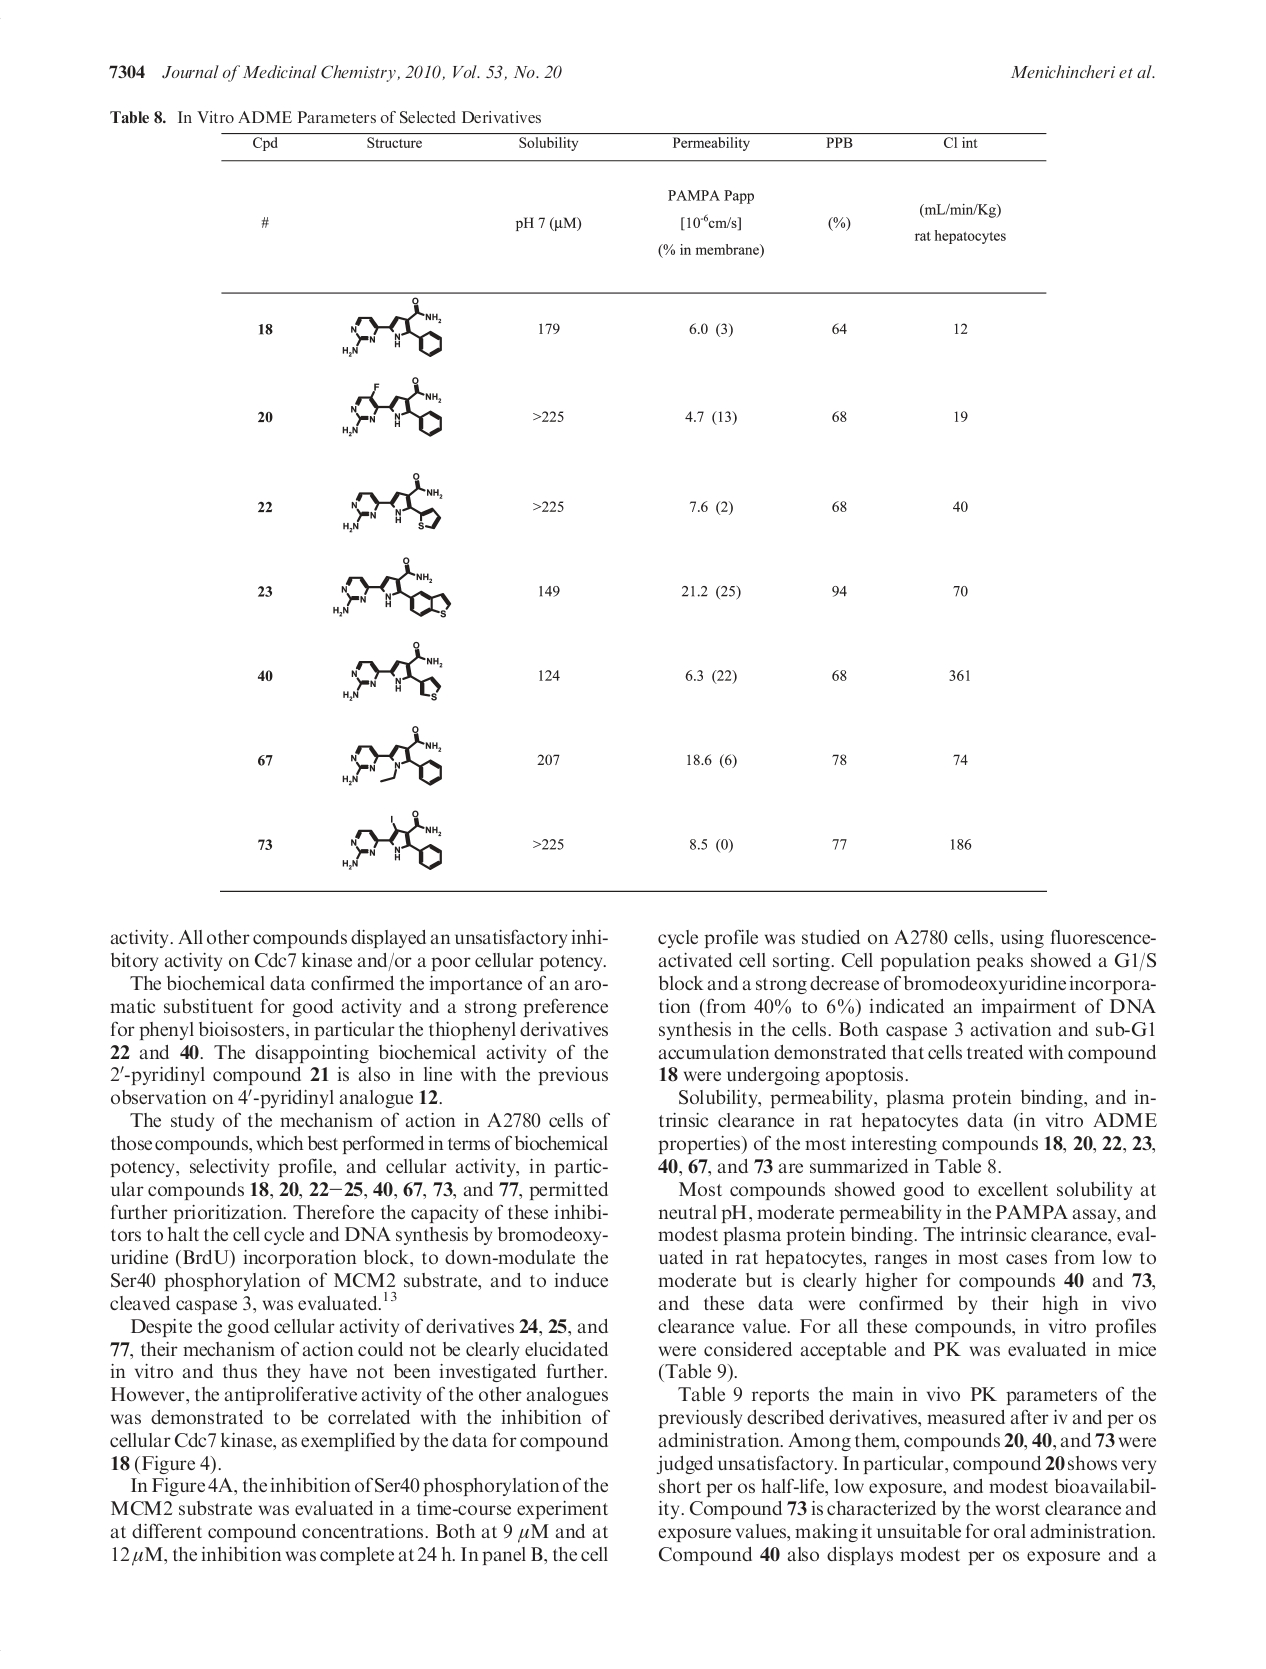exist_molecular: (331, 555, 453, 618), (340, 723, 445, 789), (340, 469, 444, 535), (340, 375, 445, 439), (340, 807, 444, 871), (340, 640, 443, 704), (340, 297, 445, 358)
